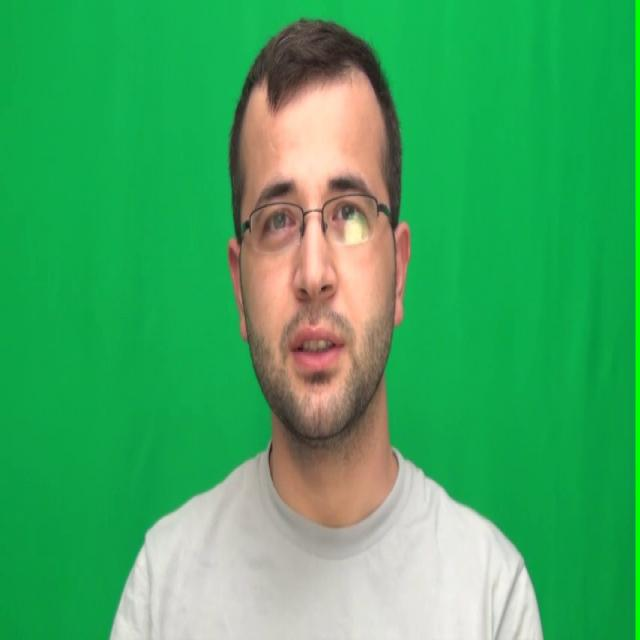Engaged: (246, 81, 394, 436)
